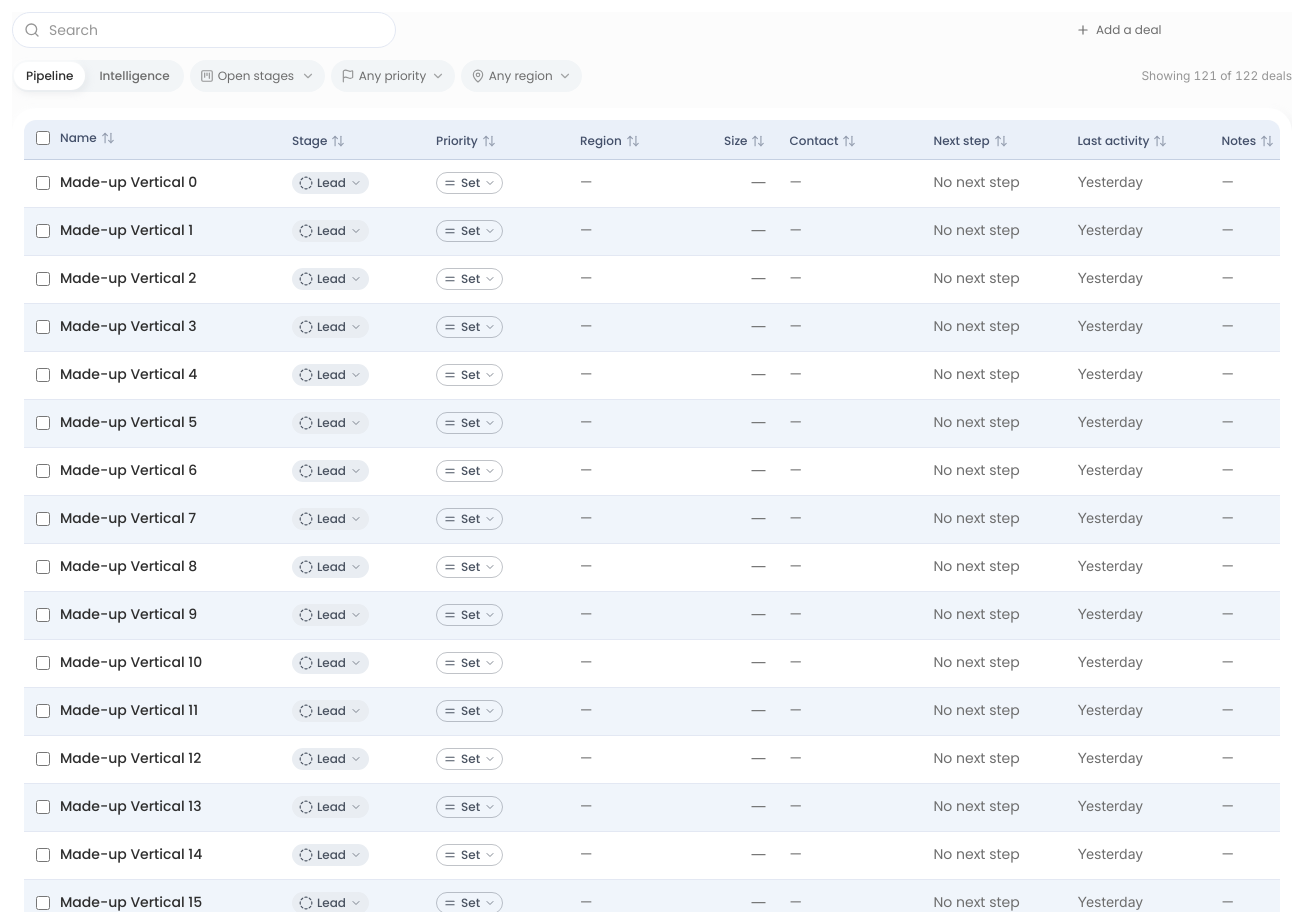
SalesTable › at most 100 are selected at once, and the table says so
Click the checkbox named "Select every deal shown" at (43, 138), box [36,131,50,145]
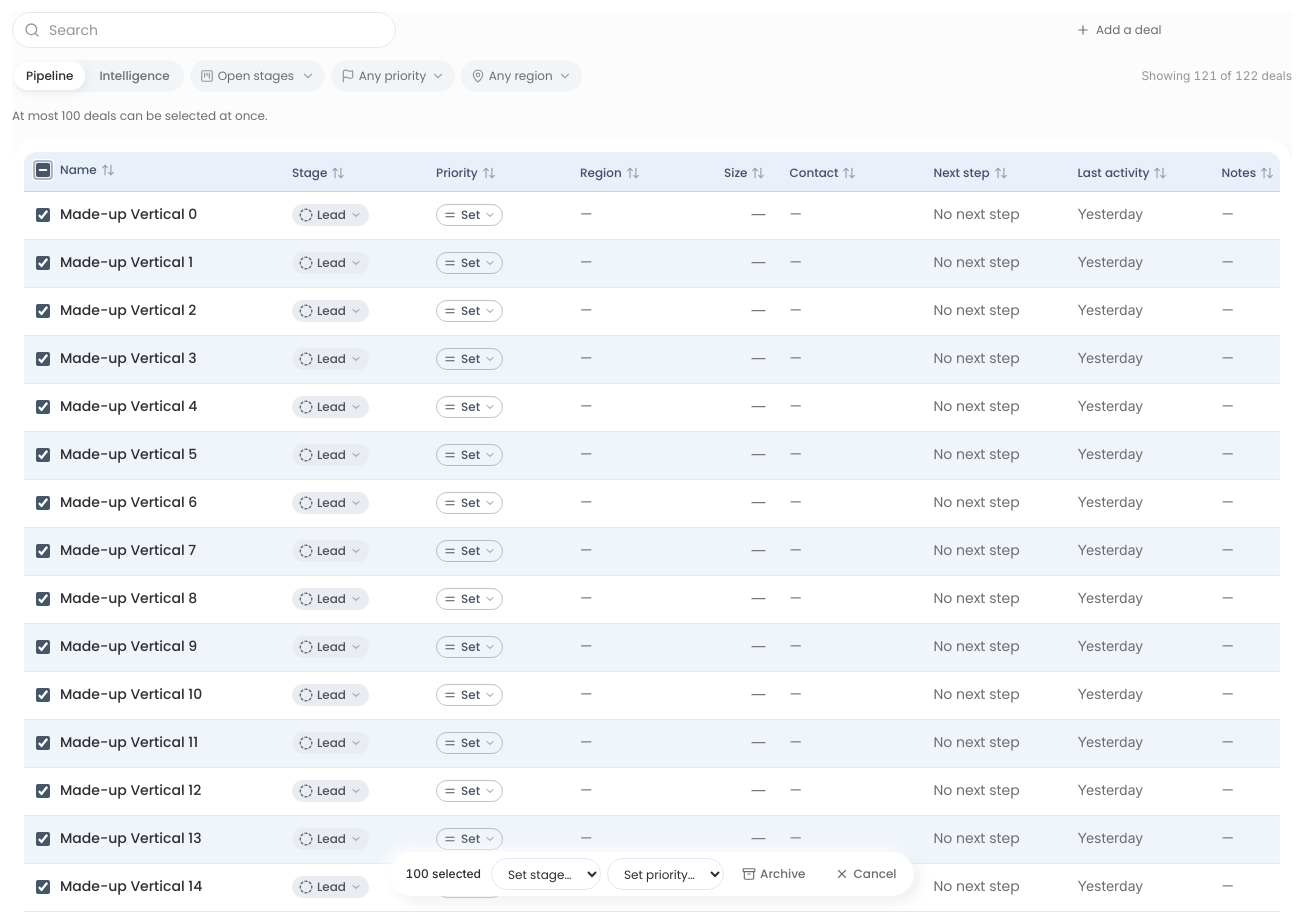
Expected: the text "100 selected" is shown, [406,866,481,882]
Expected: the text "At most 100 deals can be selected at once." is shown, [12,107,268,124]
